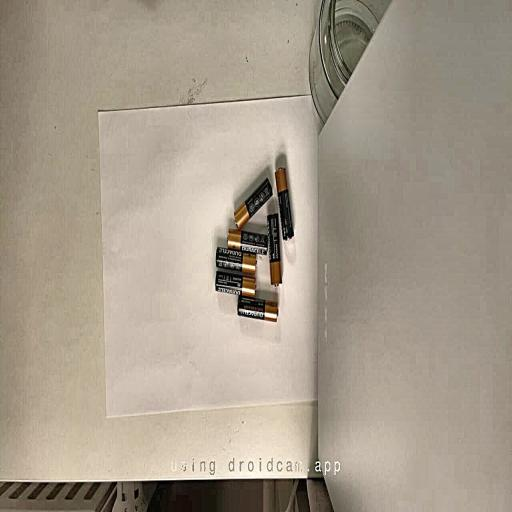DuracellAA: (234, 178, 272, 228), (275, 167, 294, 240), (215, 246, 257, 274), (215, 270, 256, 297), (237, 296, 278, 321), (227, 230, 268, 255), (268, 213, 282, 286)
